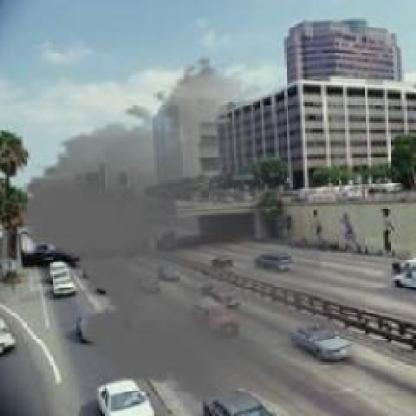Smoke: (10, 56, 378, 412)
